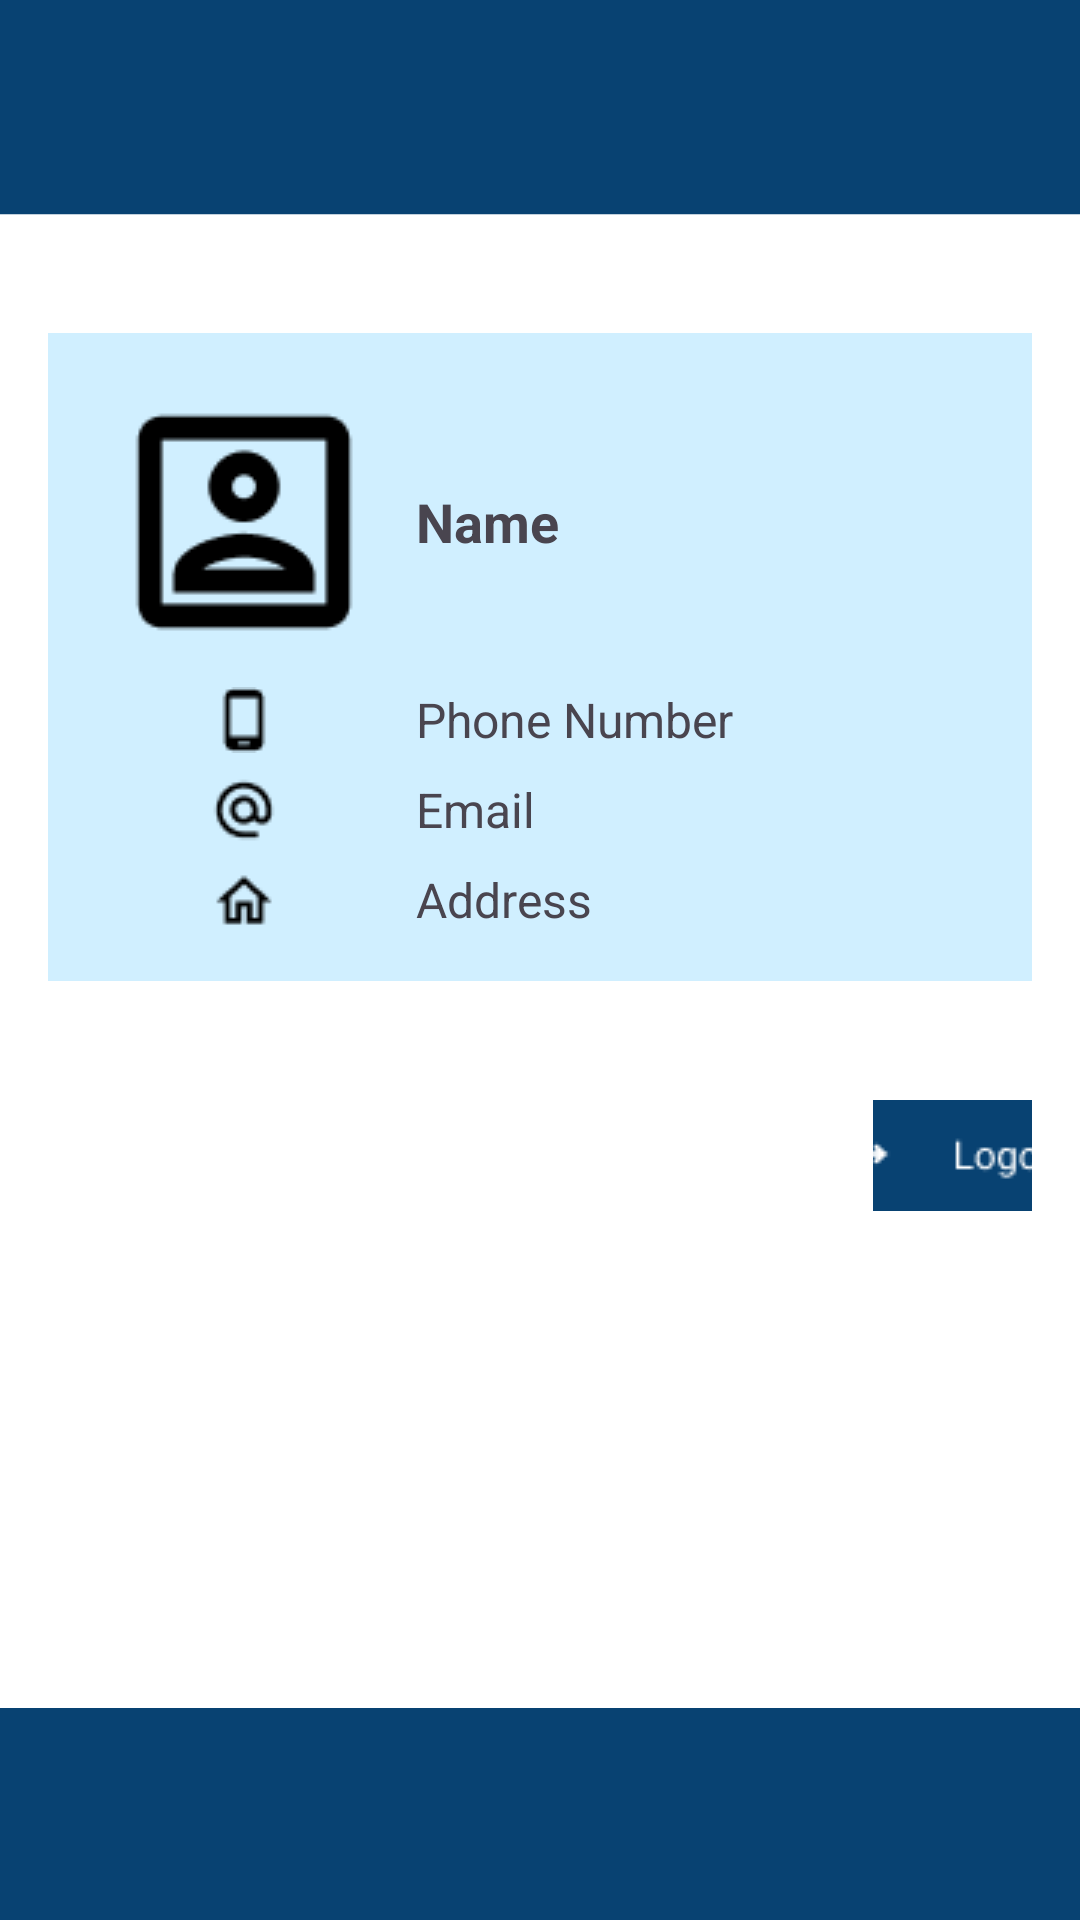

Where icons sit on this 1080 x 1920 app screen, as region(x1, y1, x2, y2):
bahay: region(216, 875, 272, 925)
portrait: region(136, 414, 352, 630)
